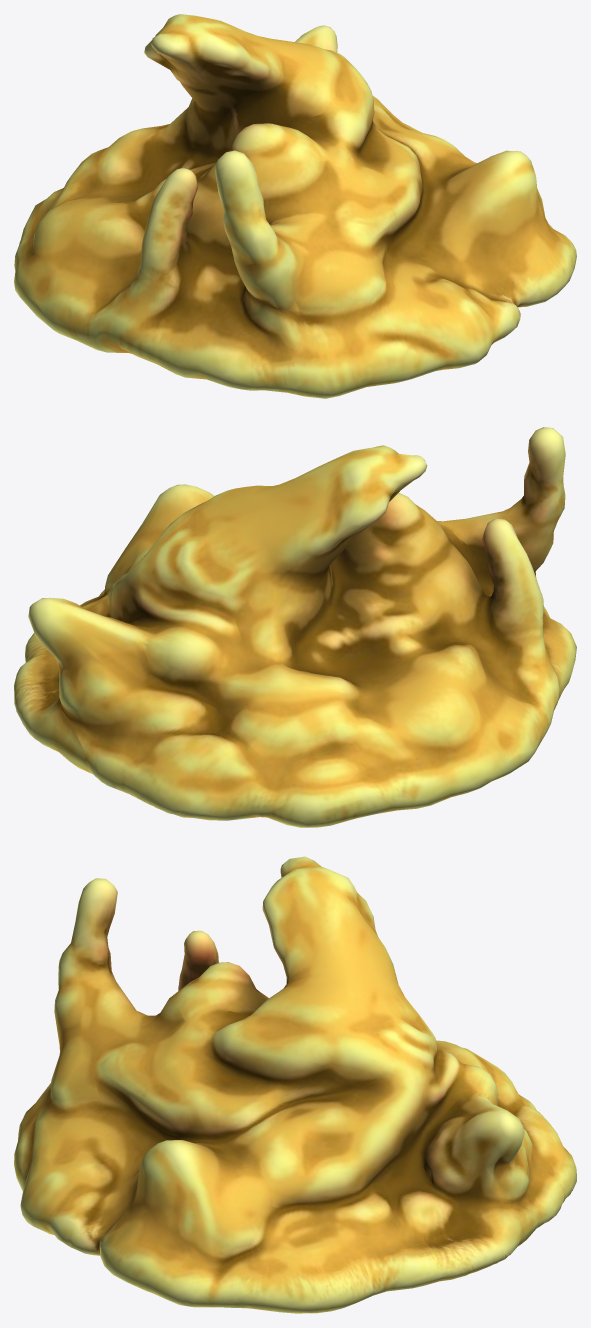
File: MZ4250 - Ochre Jelly.glb
3 views of the same model, one above another, from view 1: azimuth 30°, elevation 25°; view 2: azimuth 150°, elevation 25°; view 3: azimuth 270°, elevation 25° (orthographic). The views are drawn at different scales.
Parts seen in each view (by area): view 1: body_low.001; view 2: body_low.001; view 3: body_low.001.
Part boxes in pixels (x1=…): body_low.001: x1=14, y1=14, x2=576, y2=398; body_low.001: x1=14, y1=427, x2=576, y2=827; body_low.001: x1=14, y1=856, x2=576, y2=1313.
Size of the model in its own units: 9.24 by 5.22 by 9.21.
1 material, 1 textured.
